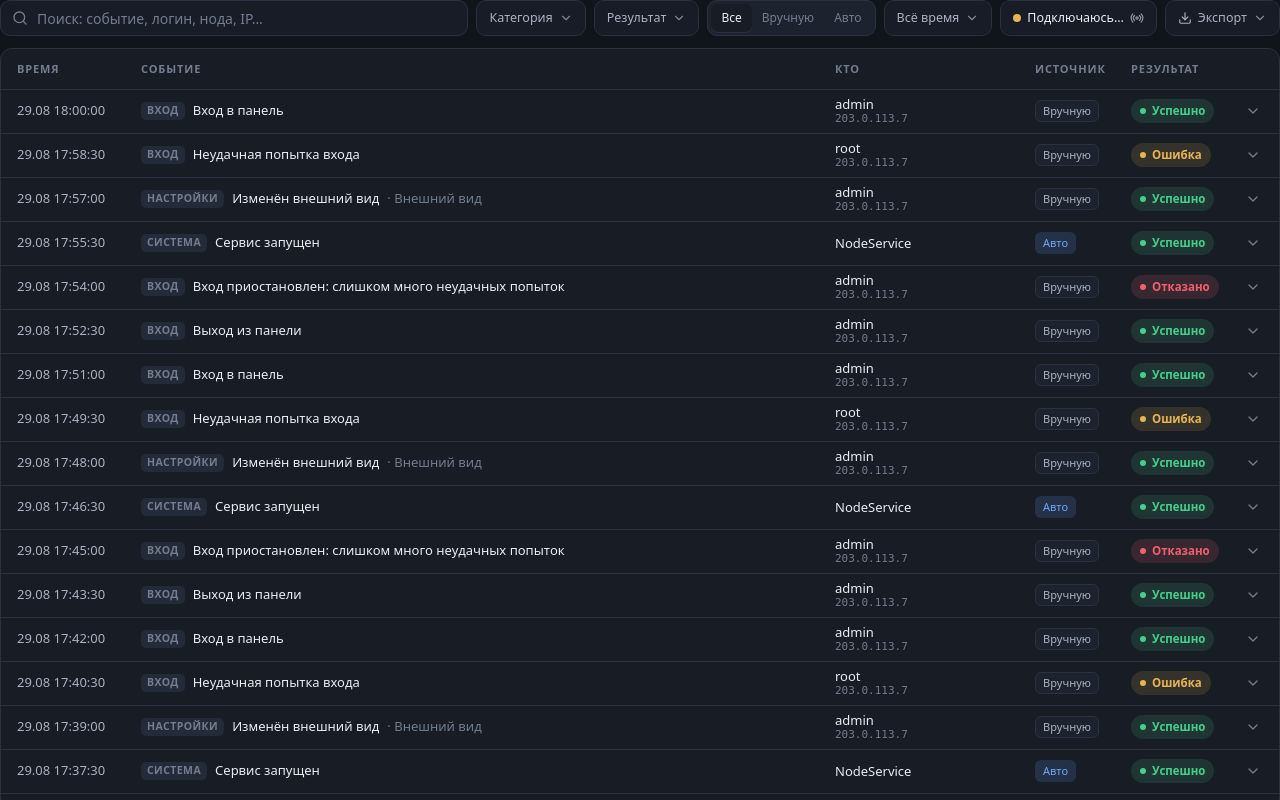
Test: AuditPage › фильтр по результату и поиск сужают список; «Сбросить» возвращает всё
The width and height of the screenshot is (1280, 800).
Click the button "Результат".
click(646, 18)  # box [594,0,699,36]
(page scrolled)
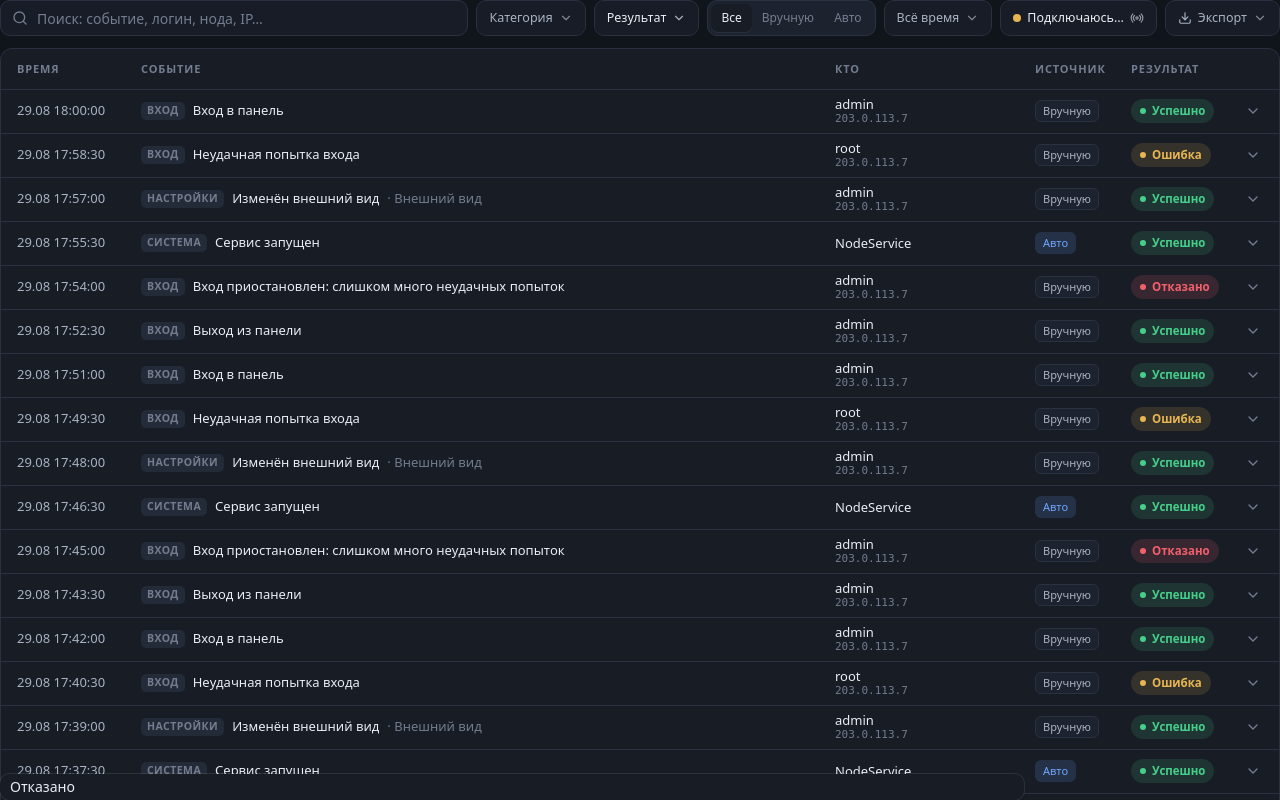
Click the menu item "Отказано".
click(42, 786)  # box [10,777,75,796]
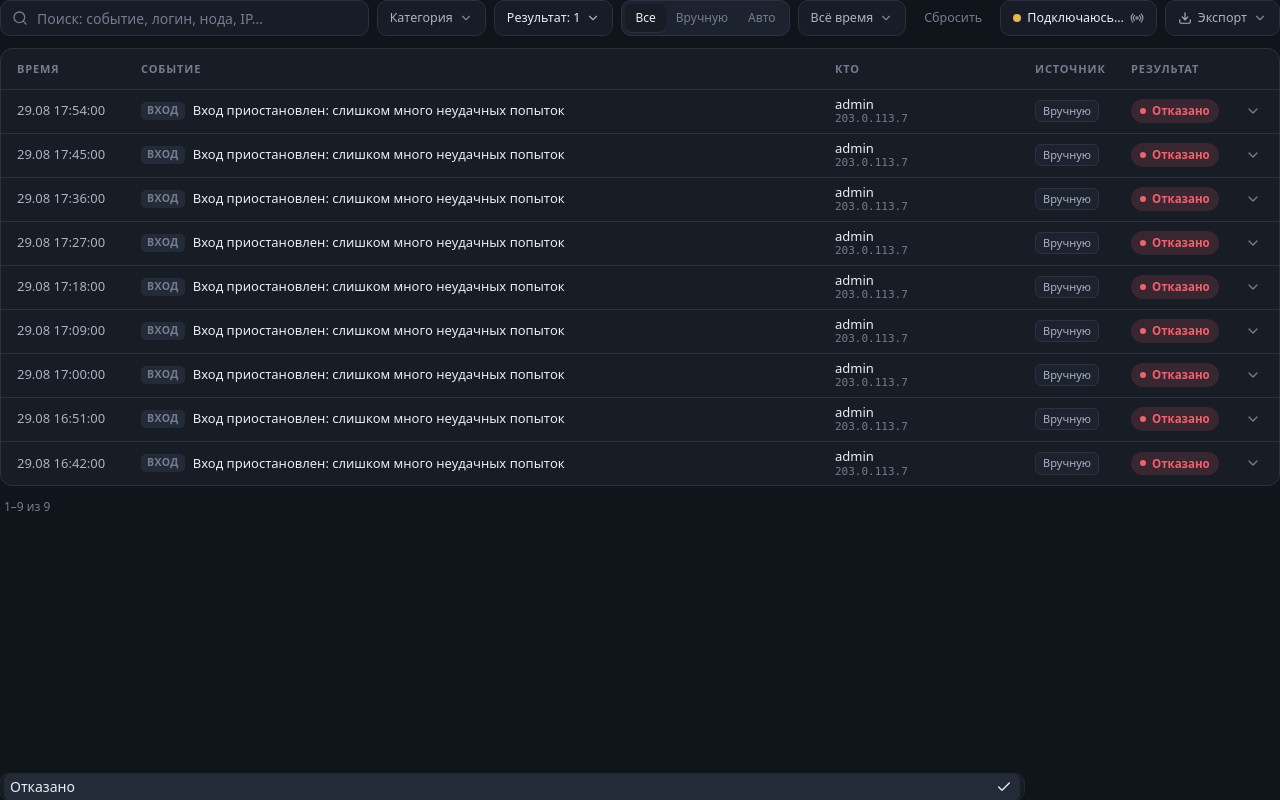
Press Escape
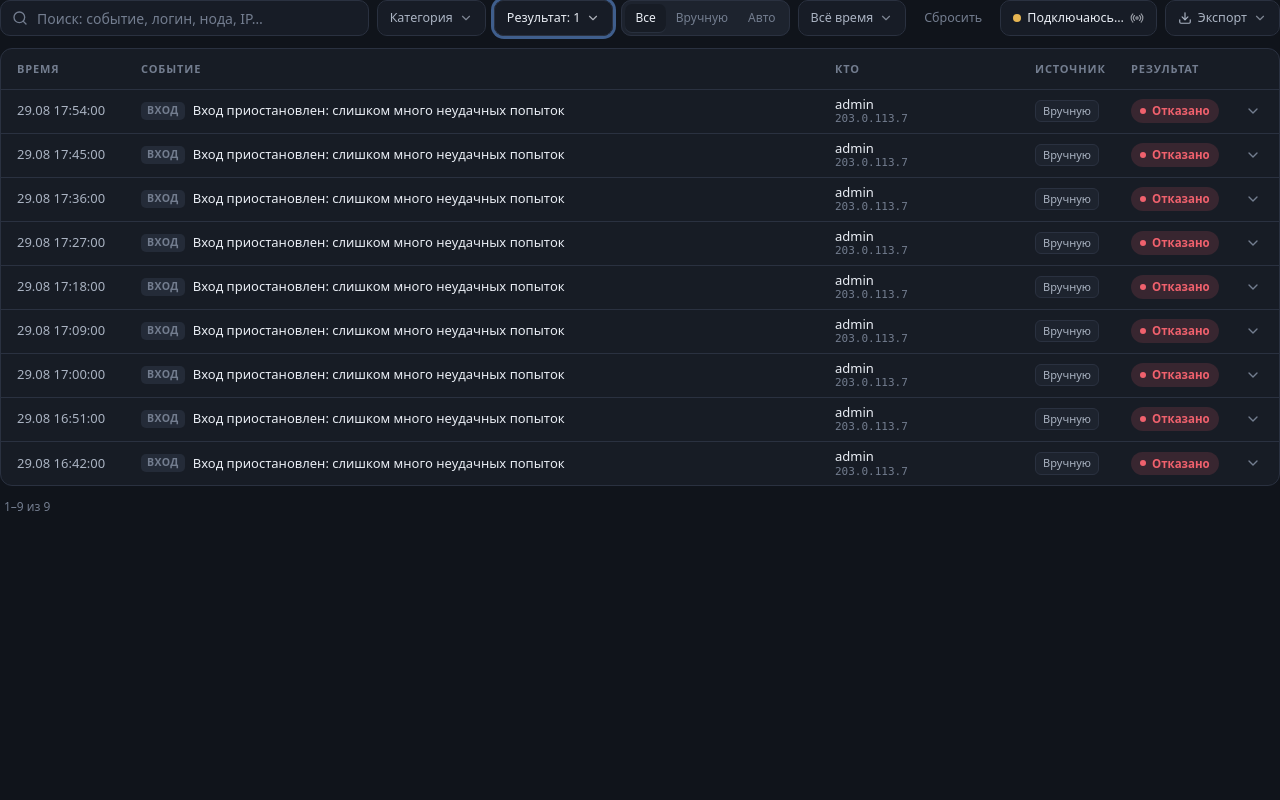
Now the text "1–9 из 9" is shown, box [4,498,50,516]
Type "root" into the field named "Поиск по журналу".
click(184, 18); type("root")  # box [0,0,369,36]
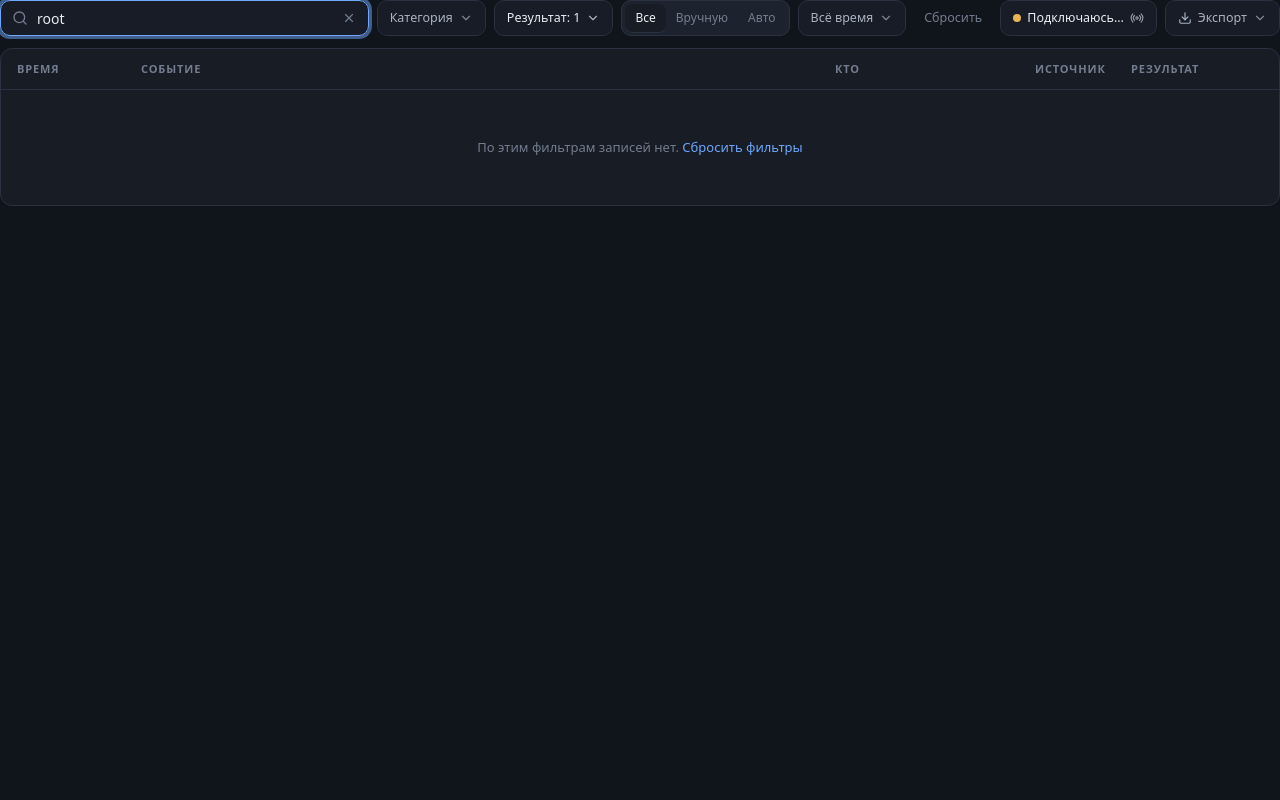
Now the text "По этим фильтрам записей нет." is shown, box [477,138,679,156]
Click the button "Сбросить".
click(953, 18)  # box [914,0,992,36]
(page scrolled)
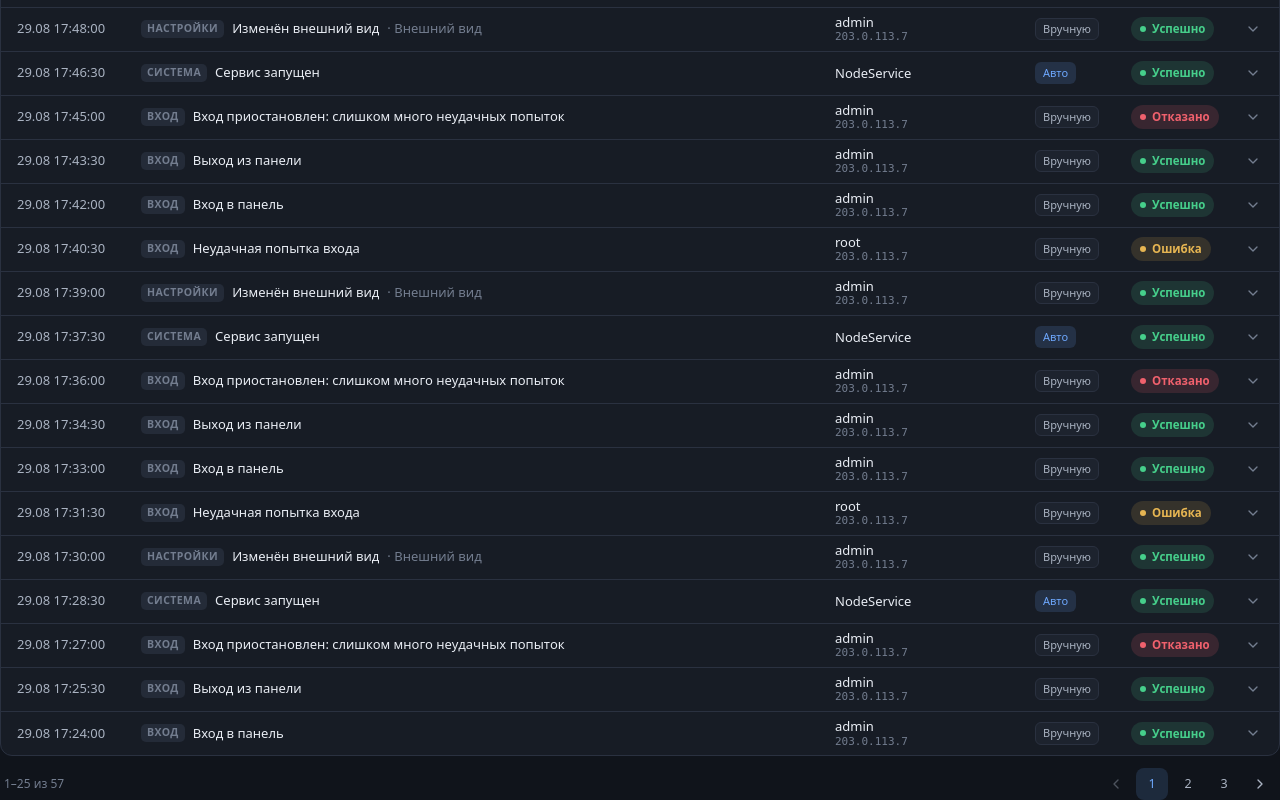
Now the text "1–25 из 57" is shown, box [4,775,64,793]
